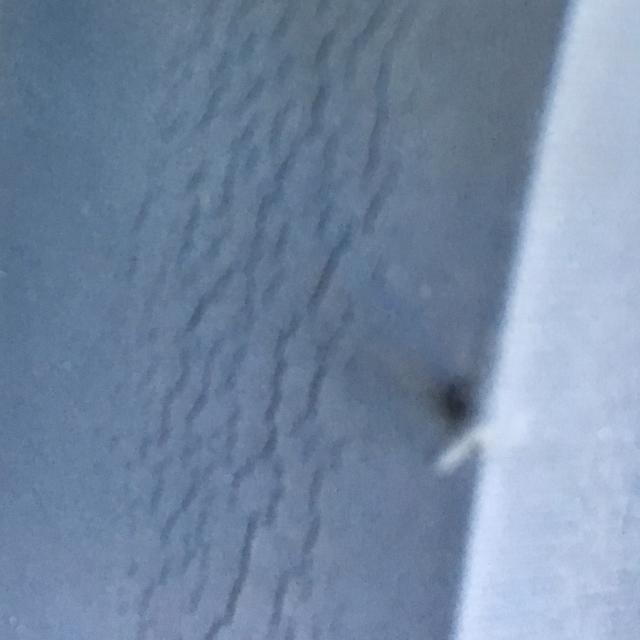Cracks: (95, 0, 477, 640)
